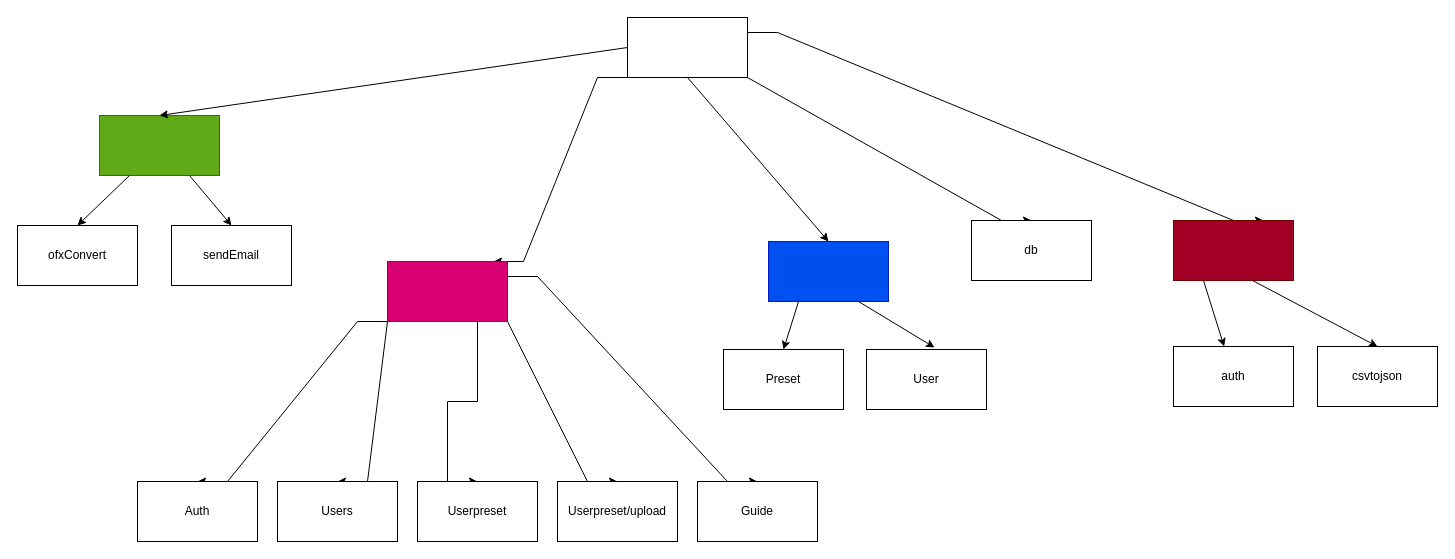
The diagram is 1455 pixels wide and 559 high, and some of its shapes have lost their labels. Here are the shapes that lost their labels. From the top down, the box of each, then its label:
(626, 16, 748, 78): SERVER
(98, 114, 220, 176): utils
(1172, 220, 1294, 280): Middleware
(386, 260, 508, 322): Routes
(768, 240, 888, 302): Models
